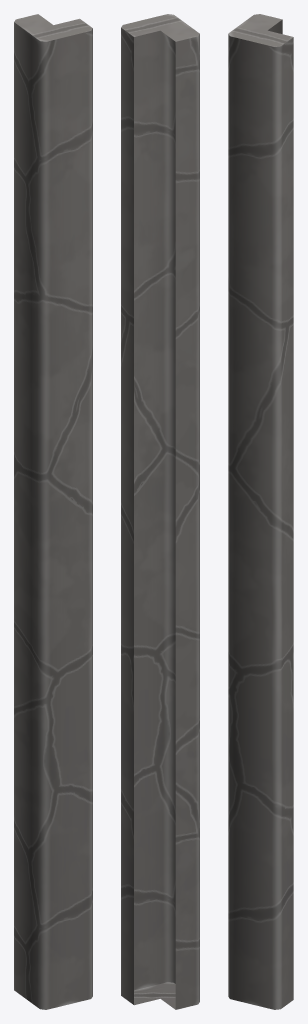
Rendered from PropTrimFacade01_1.FBX.
3 views of the same model, side by side, from view 1: azimuth 30°, elevation 25°; view 2: azimuth 210°, elevation 25°; view 3: azimuth 330°, elevation 25° (orthographic).
Parts seen in each view (by area): view 1: PropTrimFacade01_1; view 2: PropTrimFacade01_1; view 3: PropTrimFacade01_1.
Part boxes in pixels (x1=…): PropTrimFacade01_1: x1=14, y1=14, x2=92, y2=1009; PropTrimFacade01_1: x1=121, y1=14, x2=199, y2=1009; PropTrimFacade01_1: x1=228, y1=14, x2=293, y2=1009.
Size of what is drawn, in the model's own units: 0.2 by 3.5 by 0.2.
